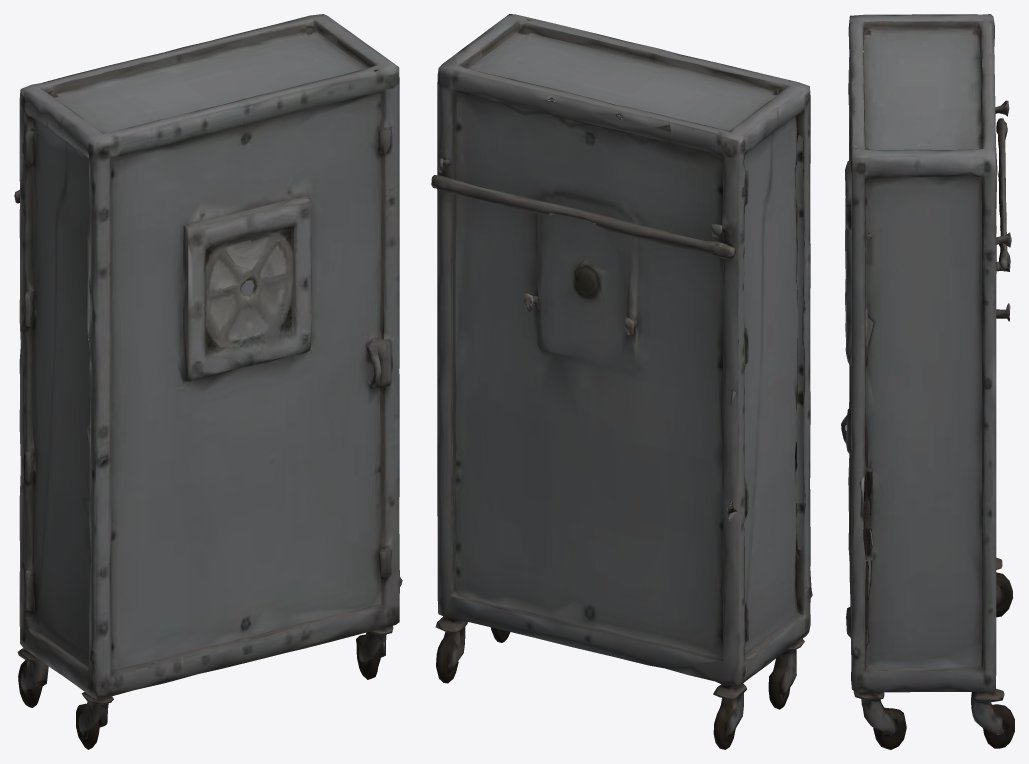
The model's file is biombo_plomo.glb.
The picture shows the model from 3 angles, left to right: view 1: azimuth 30°, elevation 25°; view 2: azimuth 150°, elevation 25°; view 3: azimuth 270°, elevation 25°; orthographic projection. The views are drawn at different scales.
Parts seen in each view (by area): view 1: geometry_0; view 2: geometry_0; view 3: geometry_0.
Part boxes in pixels (x1,y1,x2,y2): geometry_0: (14, 14, 402, 749); geometry_0: (431, 14, 812, 749); geometry_0: (841, 14, 1014, 749).
Bounding box in the file's own units: 1 × 1.9 × 0.5.
1 material, 1 textured.
